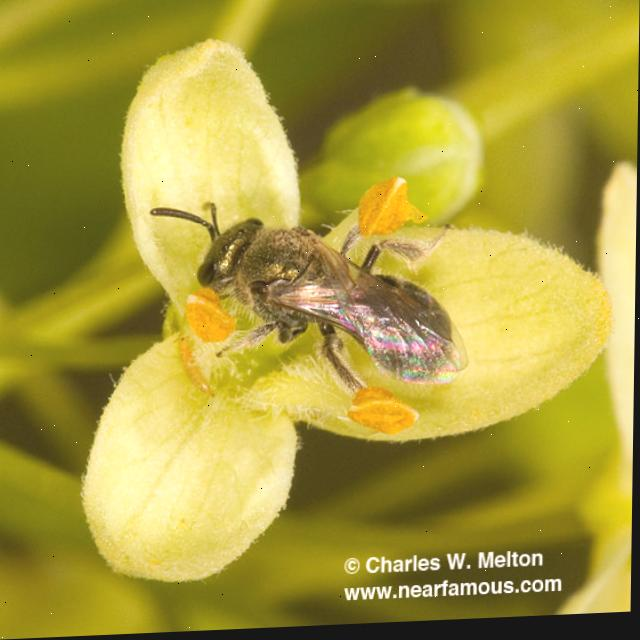Lasioglossum: (147, 173, 471, 444)
